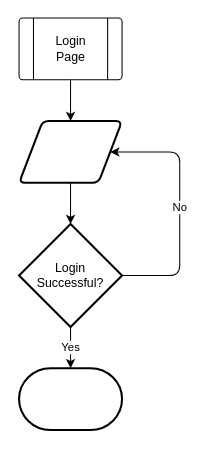
Image size: 206x449. Some labels were removed from this diagram. Each missing label, with the centre of its shape:
"Stop" goes at (70,399).
"User Fills In Form" goes at (70,151).
